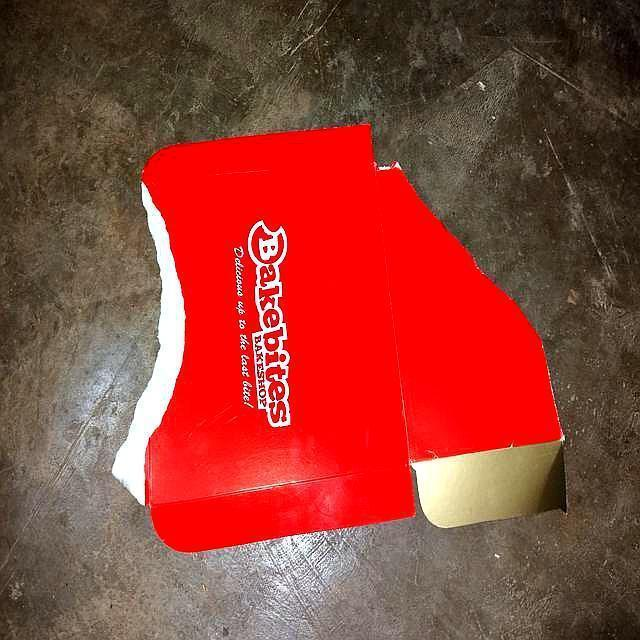Biodegradable: (115, 123, 573, 557)
